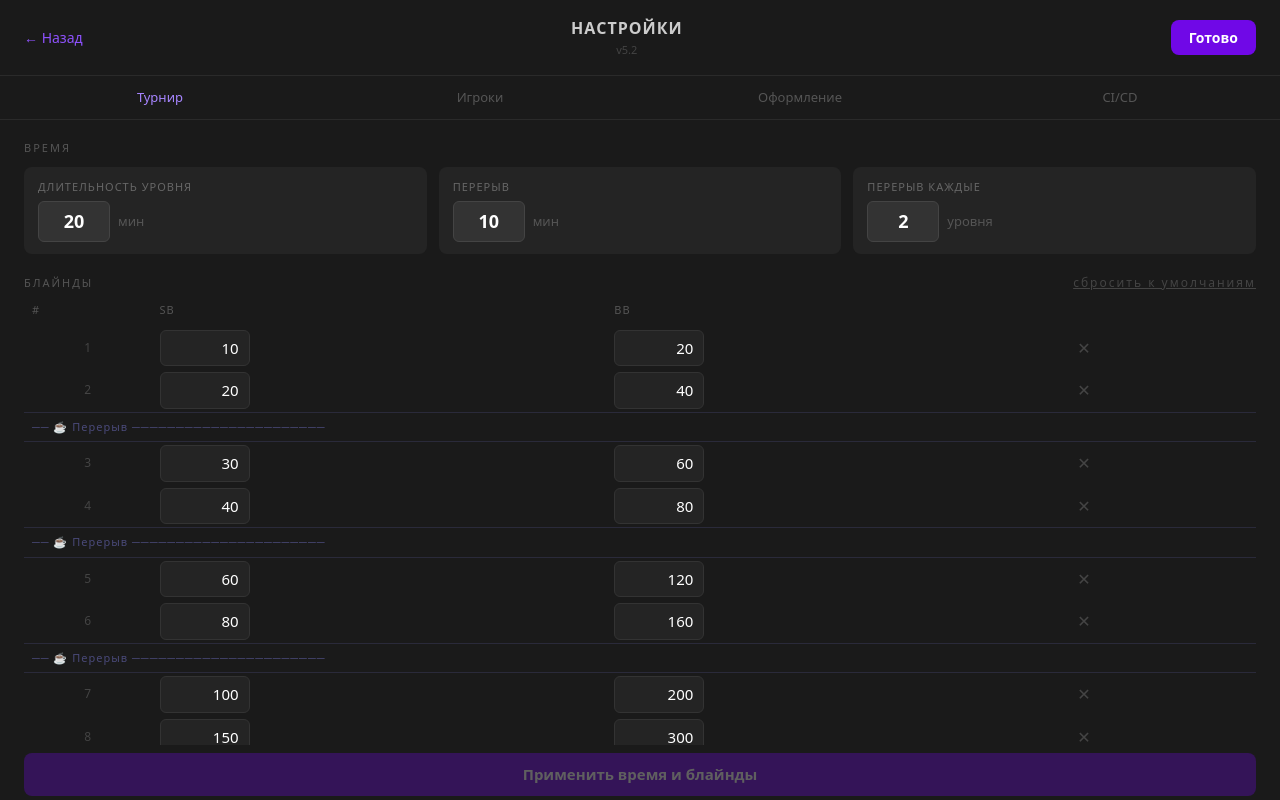
Test: SettingsScreen — Changelog › clicking "✕" in changelog closes it
The image size is (1280, 800).
Click the text "v5.2".
click(627, 50)  # box [616,42,637,57]
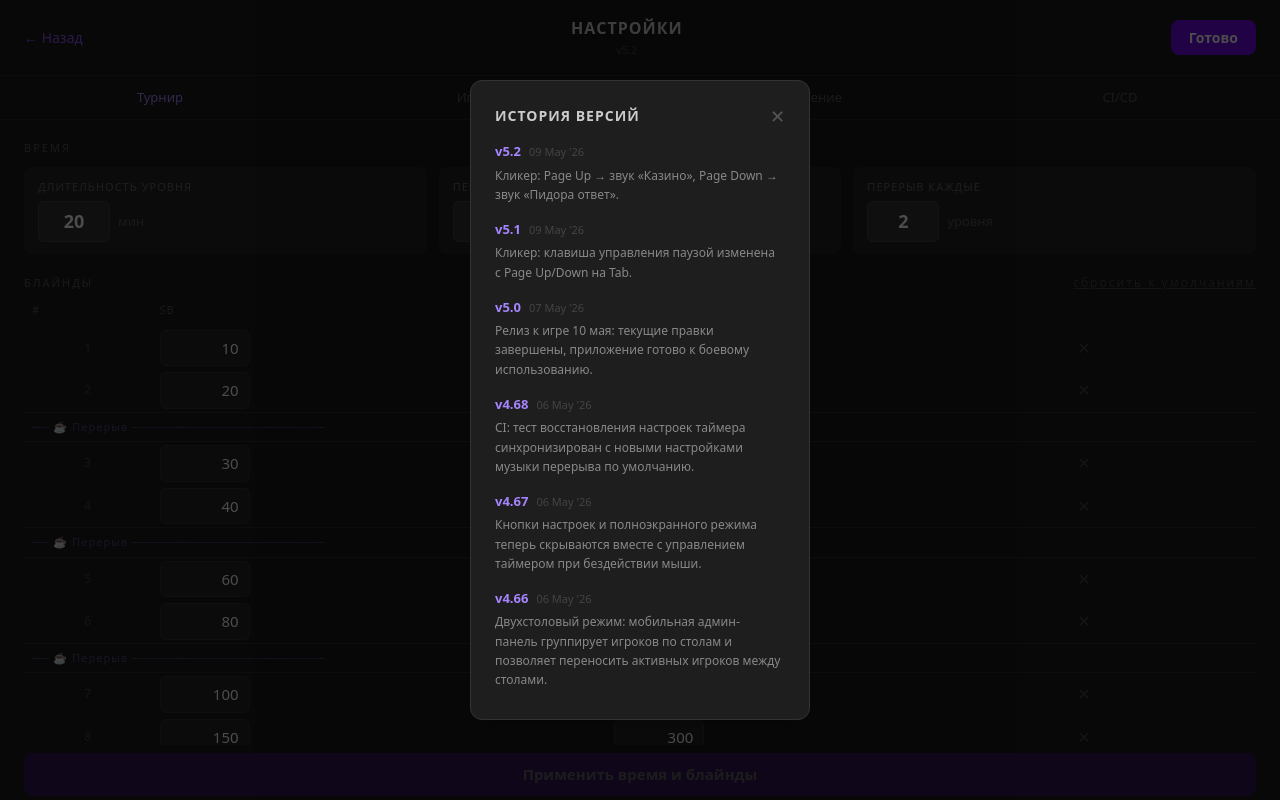
Close button is sibling of the heading inside the modal header row
Click the button "✕".
click(777, 116)  # box [770,106,785,124]
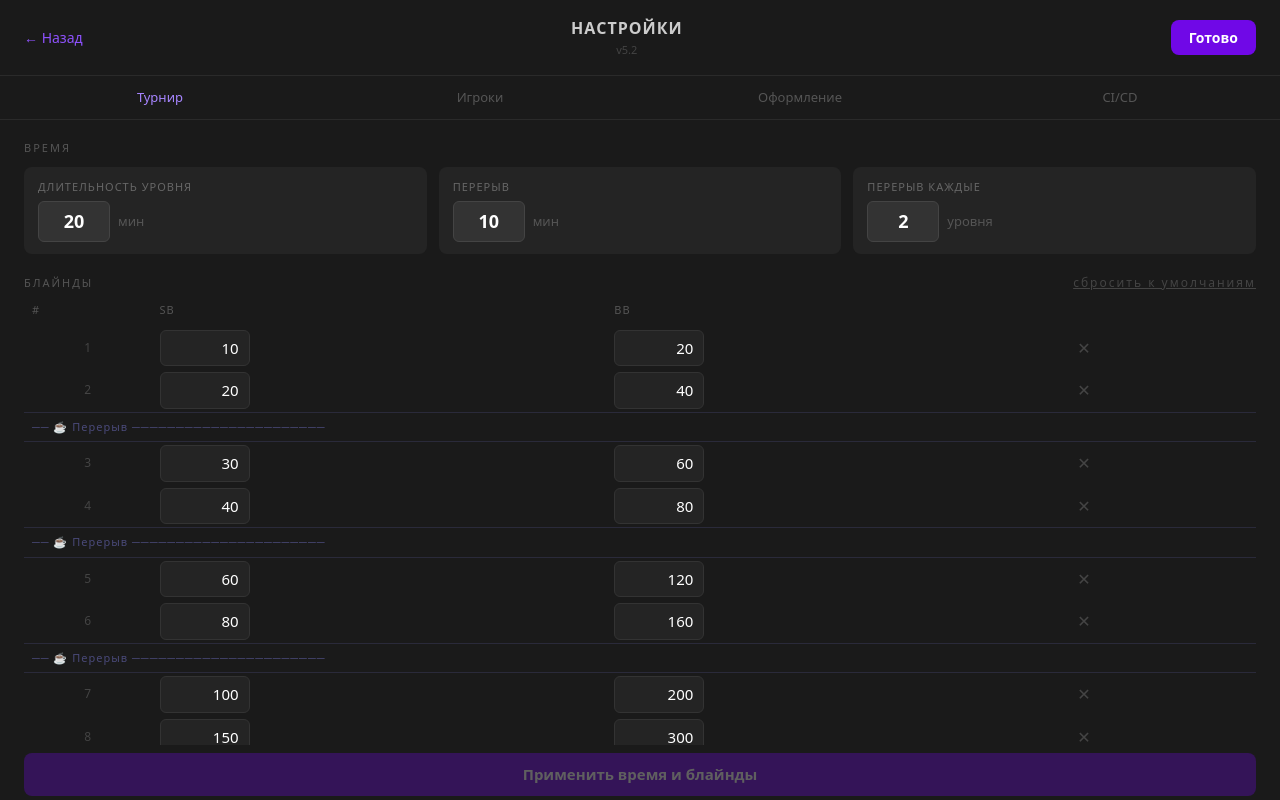
Expected: the heading "История версий" is gone
